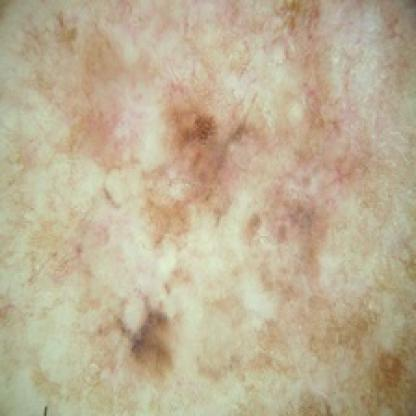malignant: (56, 22, 371, 386)
